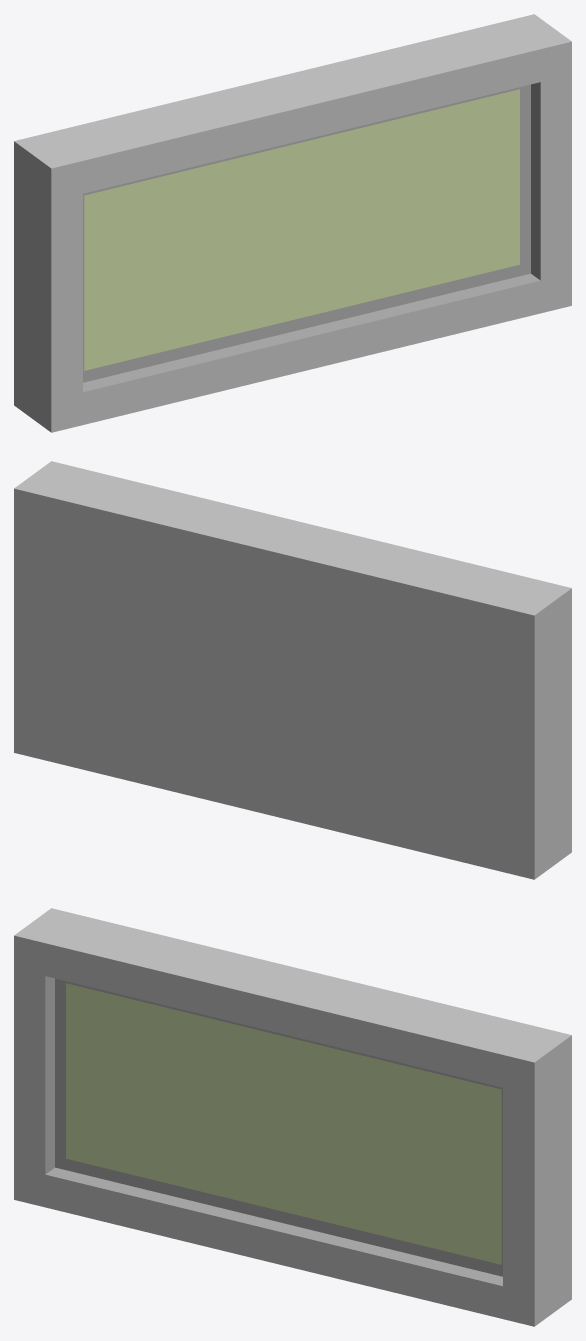
The model's file is fire exit sign.fbx.
3 renders of one model, top to bottom at view 1: azimuth 30°, elevation 25°; view 2: azimuth 150°, elevation 25°; view 3: azimuth 330°, elevation 25°, orthographic.
Visible parts, largest first — view 1: Cube_1; view 2: Cube_1; view 3: Cube_1.
Part boxes in pixels (<box>): Cube_1: <box>14,14,571,432</box>; Cube_1: <box>14,461,571,879</box>; Cube_1: <box>14,908,571,1326</box>.
Size of the model in its own units: 11.77 by 5.71 by 1.47.
